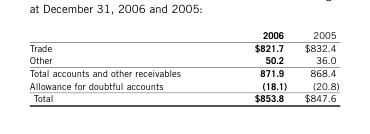table: (28, 28, 338, 103)
table column: (28, 28, 217, 103), (217, 28, 294, 103), (294, 28, 338, 103)
table column header: (28, 28, 338, 40)
table row: (28, 40, 338, 53), (28, 53, 338, 66), (28, 78, 338, 91), (28, 28, 338, 40), (28, 66, 338, 78), (28, 91, 338, 103)
